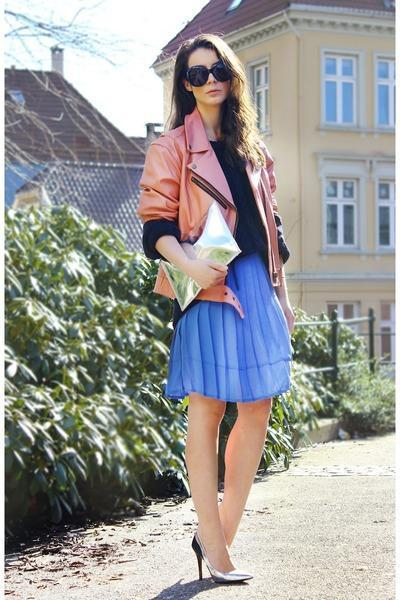bag: (174, 204, 241, 310)
jacket: (139, 108, 309, 323)
shirt: (210, 138, 268, 265)
shoe: (192, 536, 253, 586)
skirt: (164, 257, 293, 407)
sunglass: (198, 66, 227, 85)
